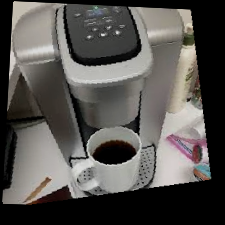10oz: (97, 31, 109, 40), (113, 31, 122, 38)
4oz: (89, 26, 99, 32)
6oz: (104, 25, 114, 31)
8oz: (84, 33, 95, 41)
coffee_handle: (84, 74, 143, 90)
water_handle: (18, 56, 60, 69)
